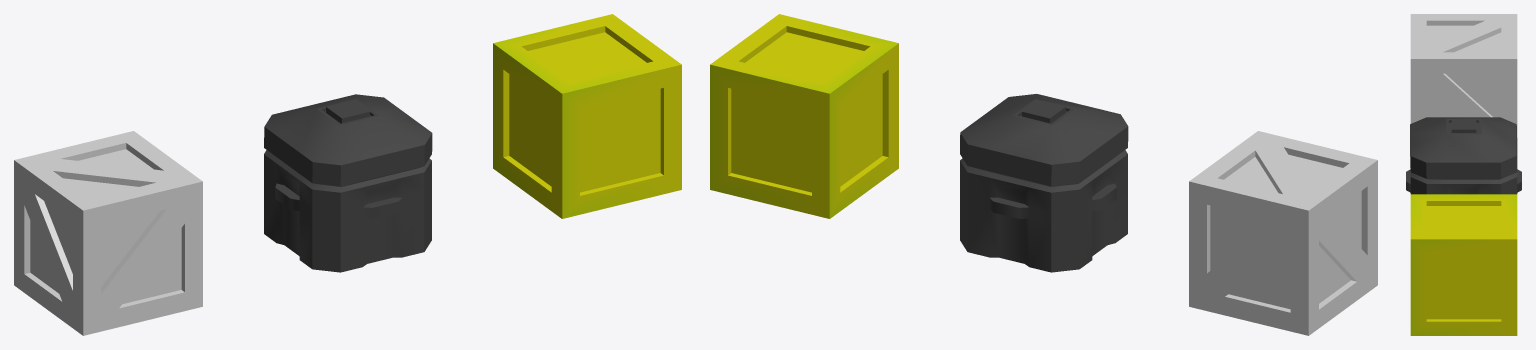
The model's file is boxes.fbx.
3 renders of one model, left to right at view 1: azimuth 30°, elevation 25°; view 2: azimuth 150°, elevation 25°; view 3: azimuth 270°, elevation 25°, orthographic. The views are drawn at different scales.
Visible parts, largest first — view 1: basic crate, panel crate, loot box; view 2: basic crate, panel crate, loot box; view 3: basic crate, panel crate, loot box.
Part boxes in pixels (<box>): basic crate: <box>493,14,681,218</box>; panel crate: <box>14,131,202,335</box>; loot box: <box>264,94,432,272</box>; basic crate: <box>710,14,898,218</box>; panel crate: <box>1189,131,1377,335</box>; loot box: <box>960,94,1128,272</box>; basic crate: <box>1410,194,1517,335</box>; panel crate: <box>1410,14,1517,137</box>; loot box: <box>1406,117,1521,194</box>.
Size of the model in its own units: 100 by 20.5 by 21.73.
